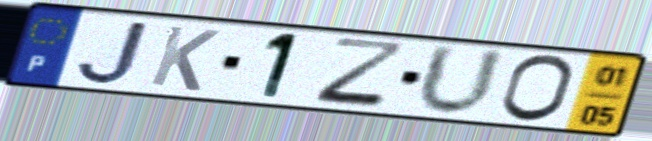1: (256, 30, 304, 104)
J: (72, 18, 155, 87)
K: (145, 23, 224, 94)
O: (496, 53, 579, 126)
U: (412, 41, 510, 120)
Z: (310, 35, 413, 112)
